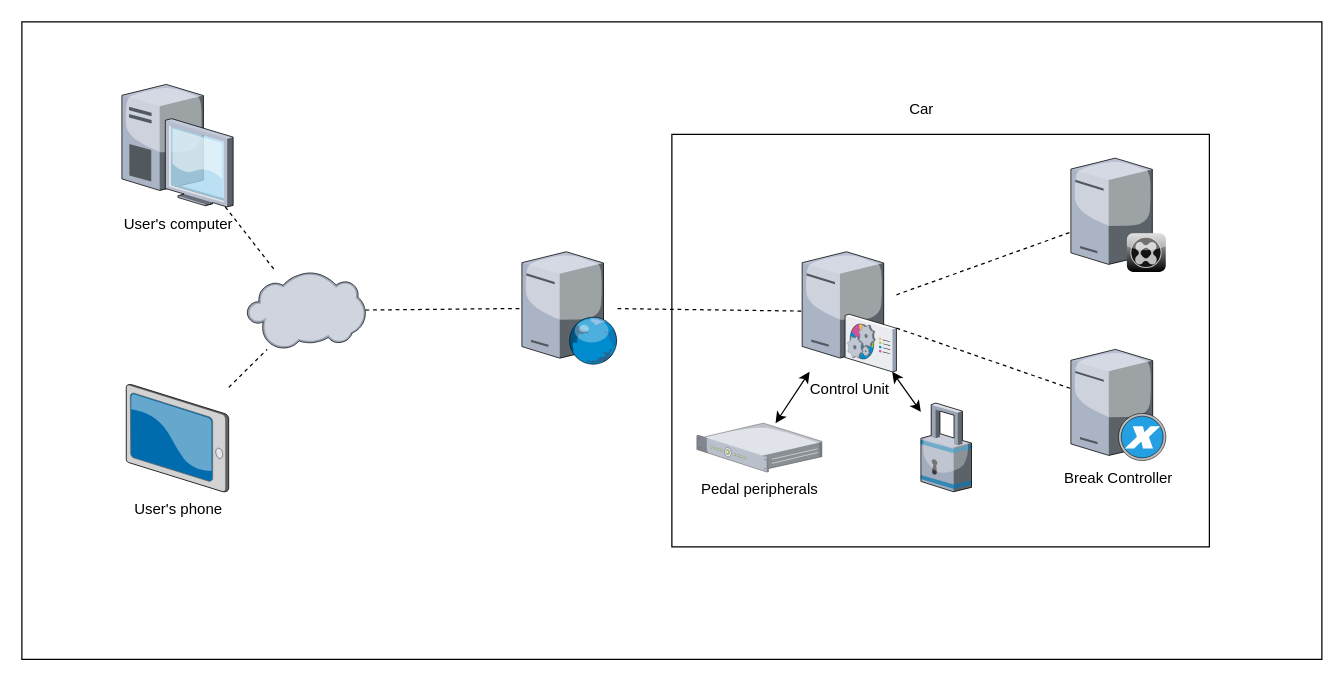
The diagram is 1344 pixels wide and 681 high, and some of its shapes have lost their labels. Here are the shapes that lost their labels. From the top down, the centre of each, then its label:
At point 1117,214: "Engine Controller".
At point 569,307: "Manufacturer server".
At point 945,446: "TEE".
